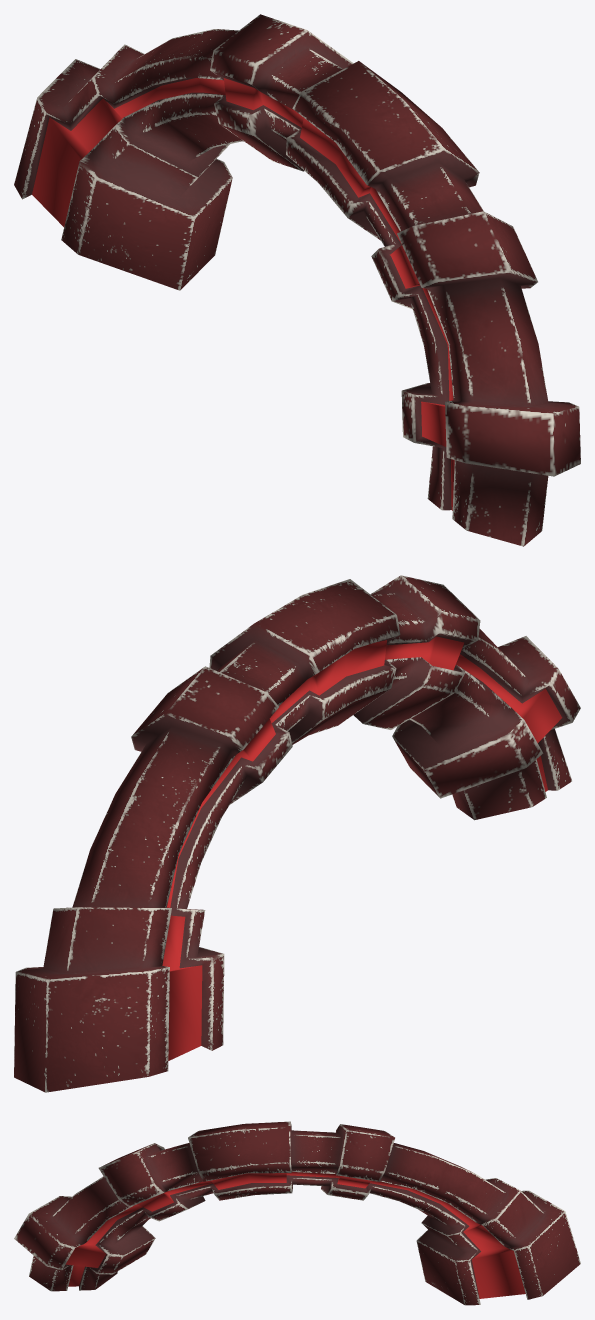
Rendered from spaceship_warm.obj.
The picture shows the model from 3 angles, top to bottom: view 1: azimuth 30°, elevation 25°; view 2: azimuth 150°, elevation 25°; view 3: azimuth 270°, elevation 25°; orthographic projection. The views are drawn at different scales.
Parts seen in each view (by area): view 1: warm/cold2_Torus.004; view 2: warm/cold2_Torus.004; view 3: warm/cold2_Torus.004.
Boxes of the visible parts, x1,y1,x2,y2 form: warm/cold2_Torus.004: [14, 14, 580, 546]; warm/cold2_Torus.004: [14, 575, 580, 1092]; warm/cold2_Torus.004: [14, 1121, 580, 1305].
Bounding box in the file's own units: 1.91 × 3.31 × 9.71.
1 material, 1 textured.
